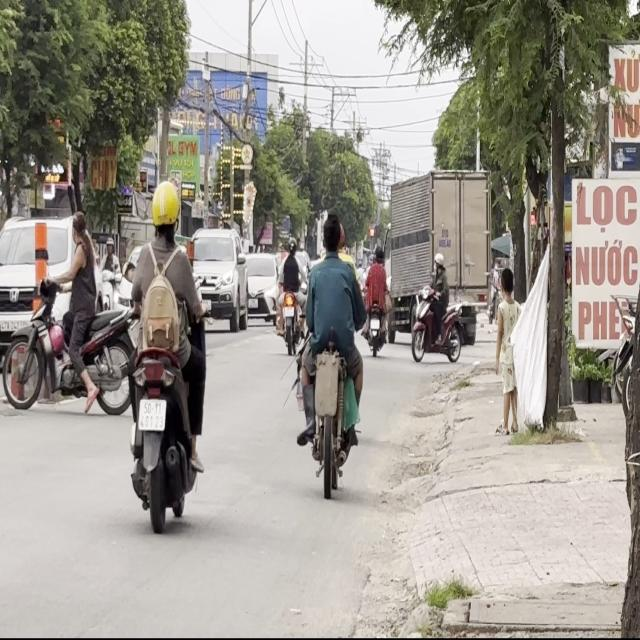helmet: (149, 178, 180, 238)
licenseplate: (123, 177, 208, 531), (0, 205, 132, 426), (292, 210, 366, 496)
motorcyclist: (320, 212, 343, 255), (68, 209, 90, 249)
nohelmet: (139, 398, 165, 430)
